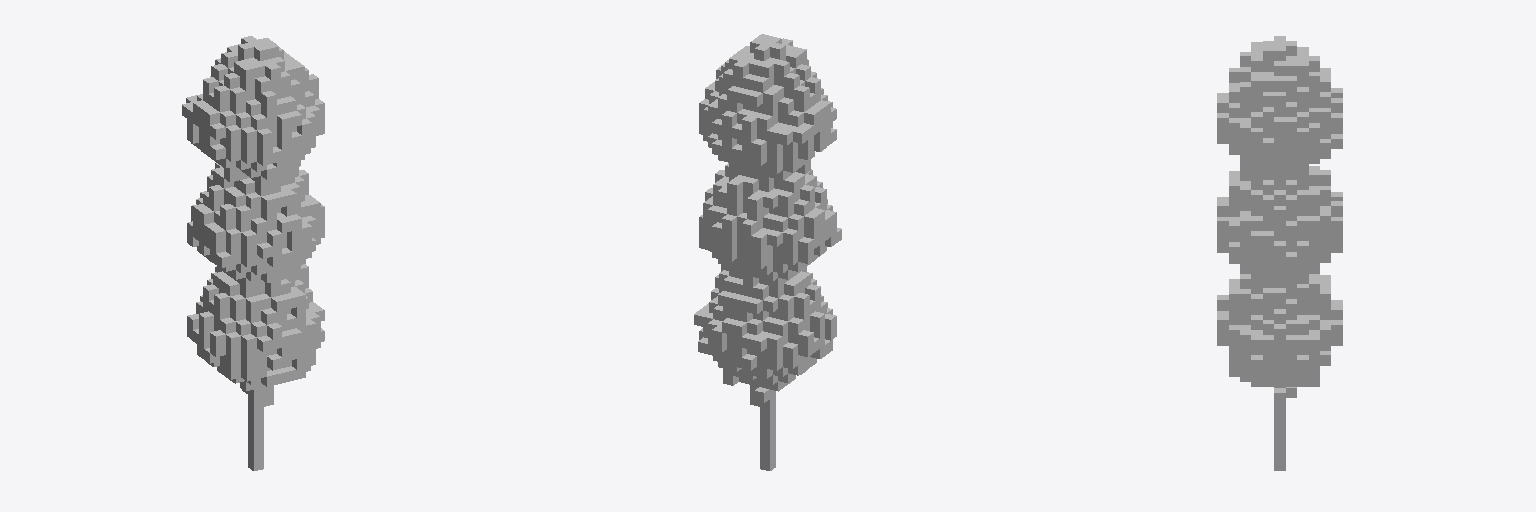
The model's file is tamago3.obj.
3 views of the same model, side by side, from view 1: azimuth 30°, elevation 25°; view 2: azimuth 150°, elevation 25°; view 3: azimuth 270°, elevation 25° (orthographic).
Parts seen in each view (by area): view 1: object 1; view 2: object 1; view 3: object 1.
Boxes of the visible parts, box(x1,y1,x2,y2) form: object 1: box(182, 36, 324, 470); object 1: box(694, 34, 841, 470); object 1: box(1217, 36, 1342, 470).
Bounding box in the file's own units: 1.1 × 4.1 × 1.1.